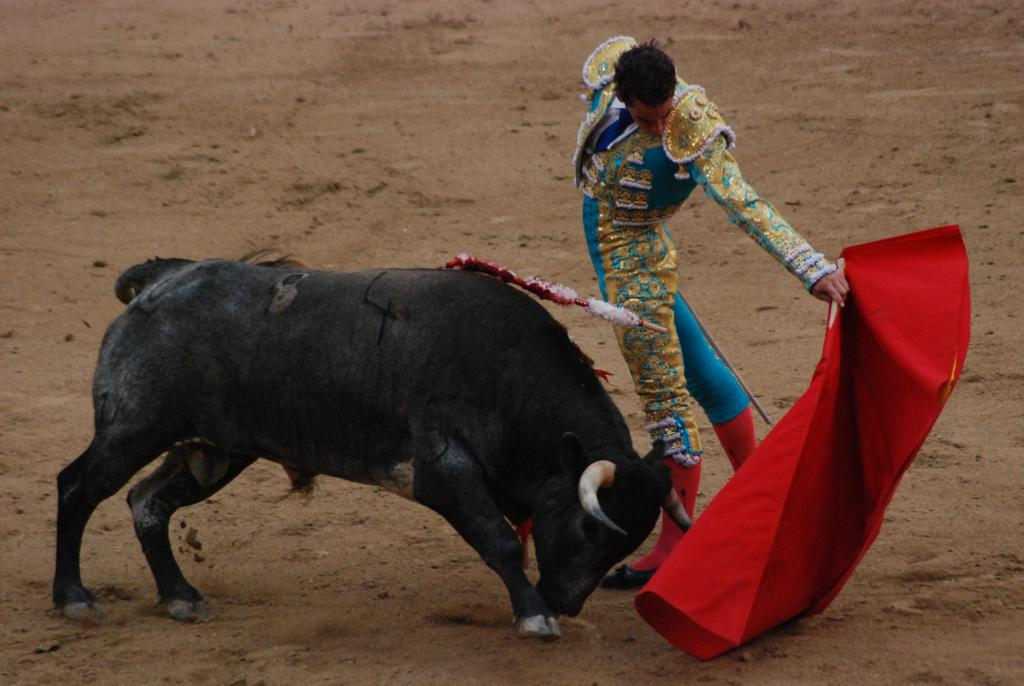face: (629, 92, 675, 137)
